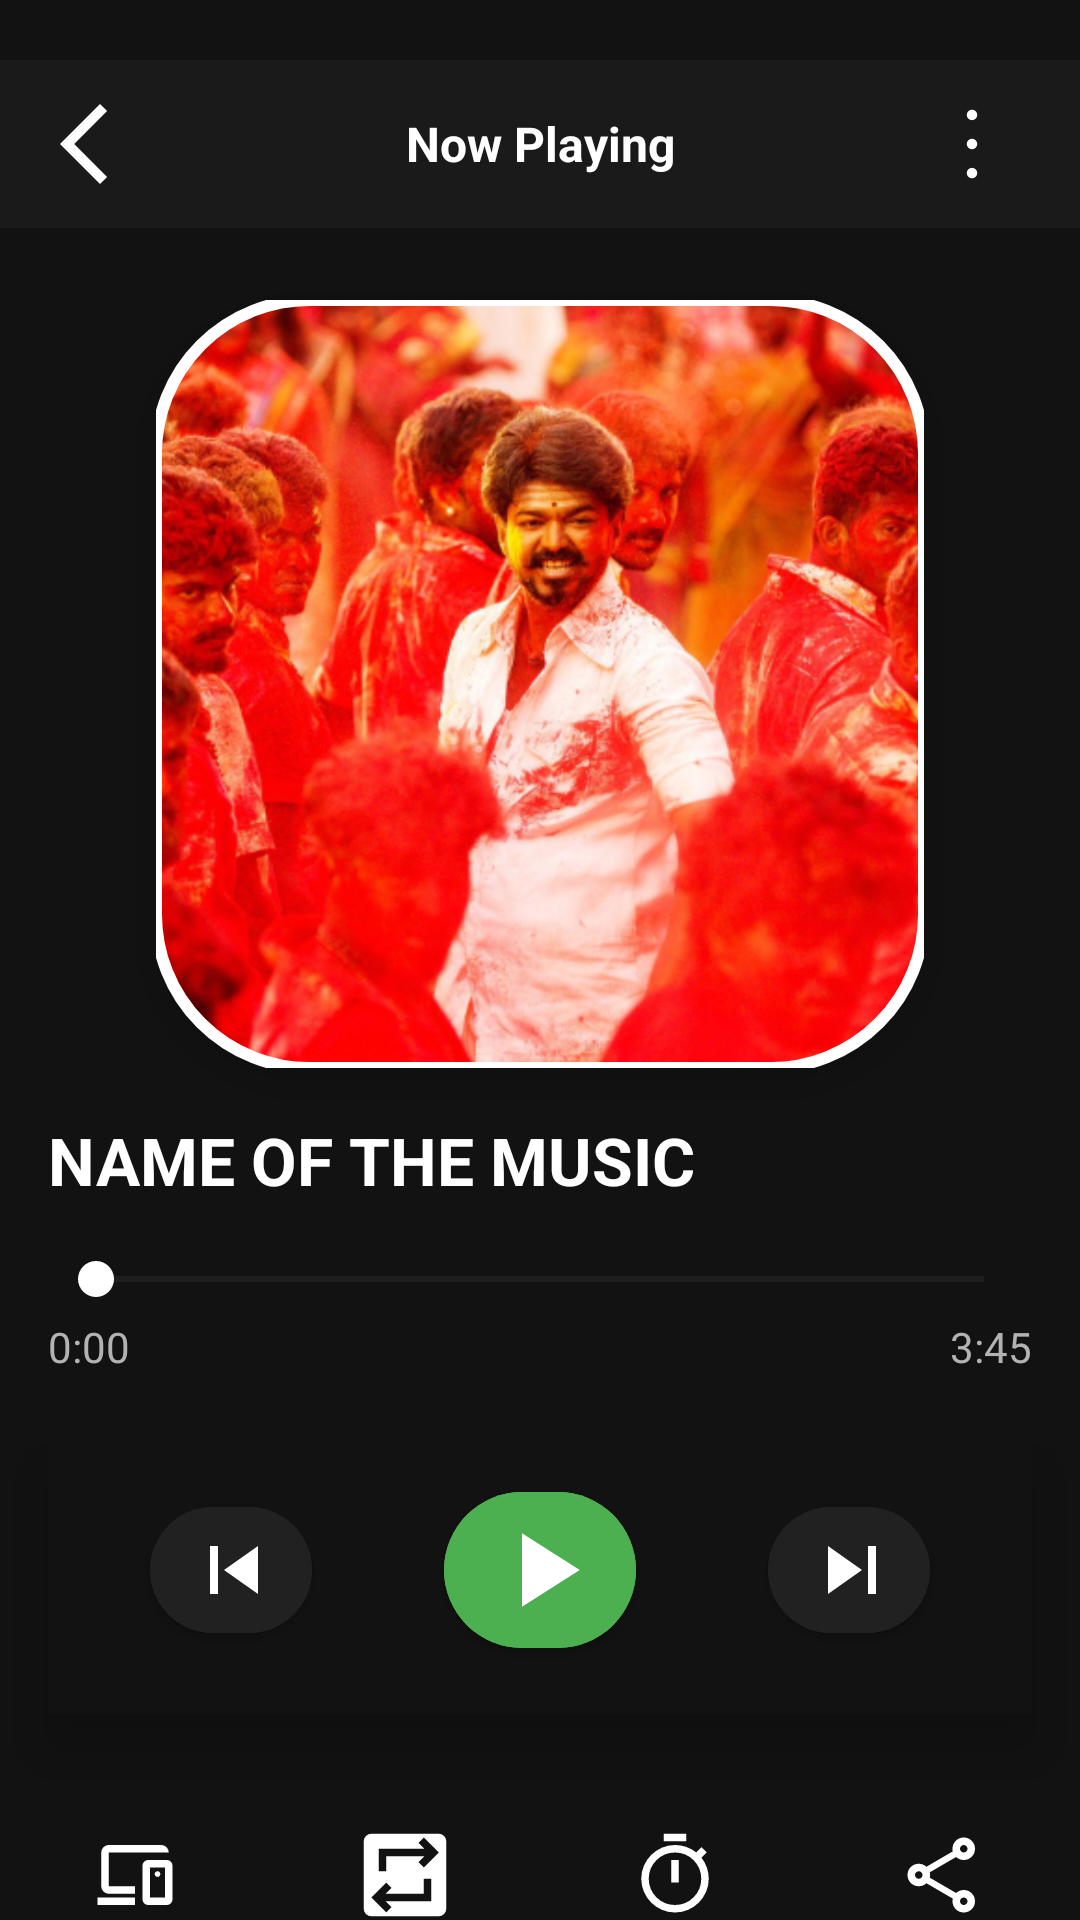

Icons on this 1080×1920 Android screen, each with the point to tap as point (x, y):
back: point (83, 144)
devices: point (135, 1875)
playandpause: point (540, 1570)
previous: point (234, 1570)
repeat: point (405, 1875)
share: point (941, 1875)
three dots: point (972, 144)
timer: point (675, 1873)
